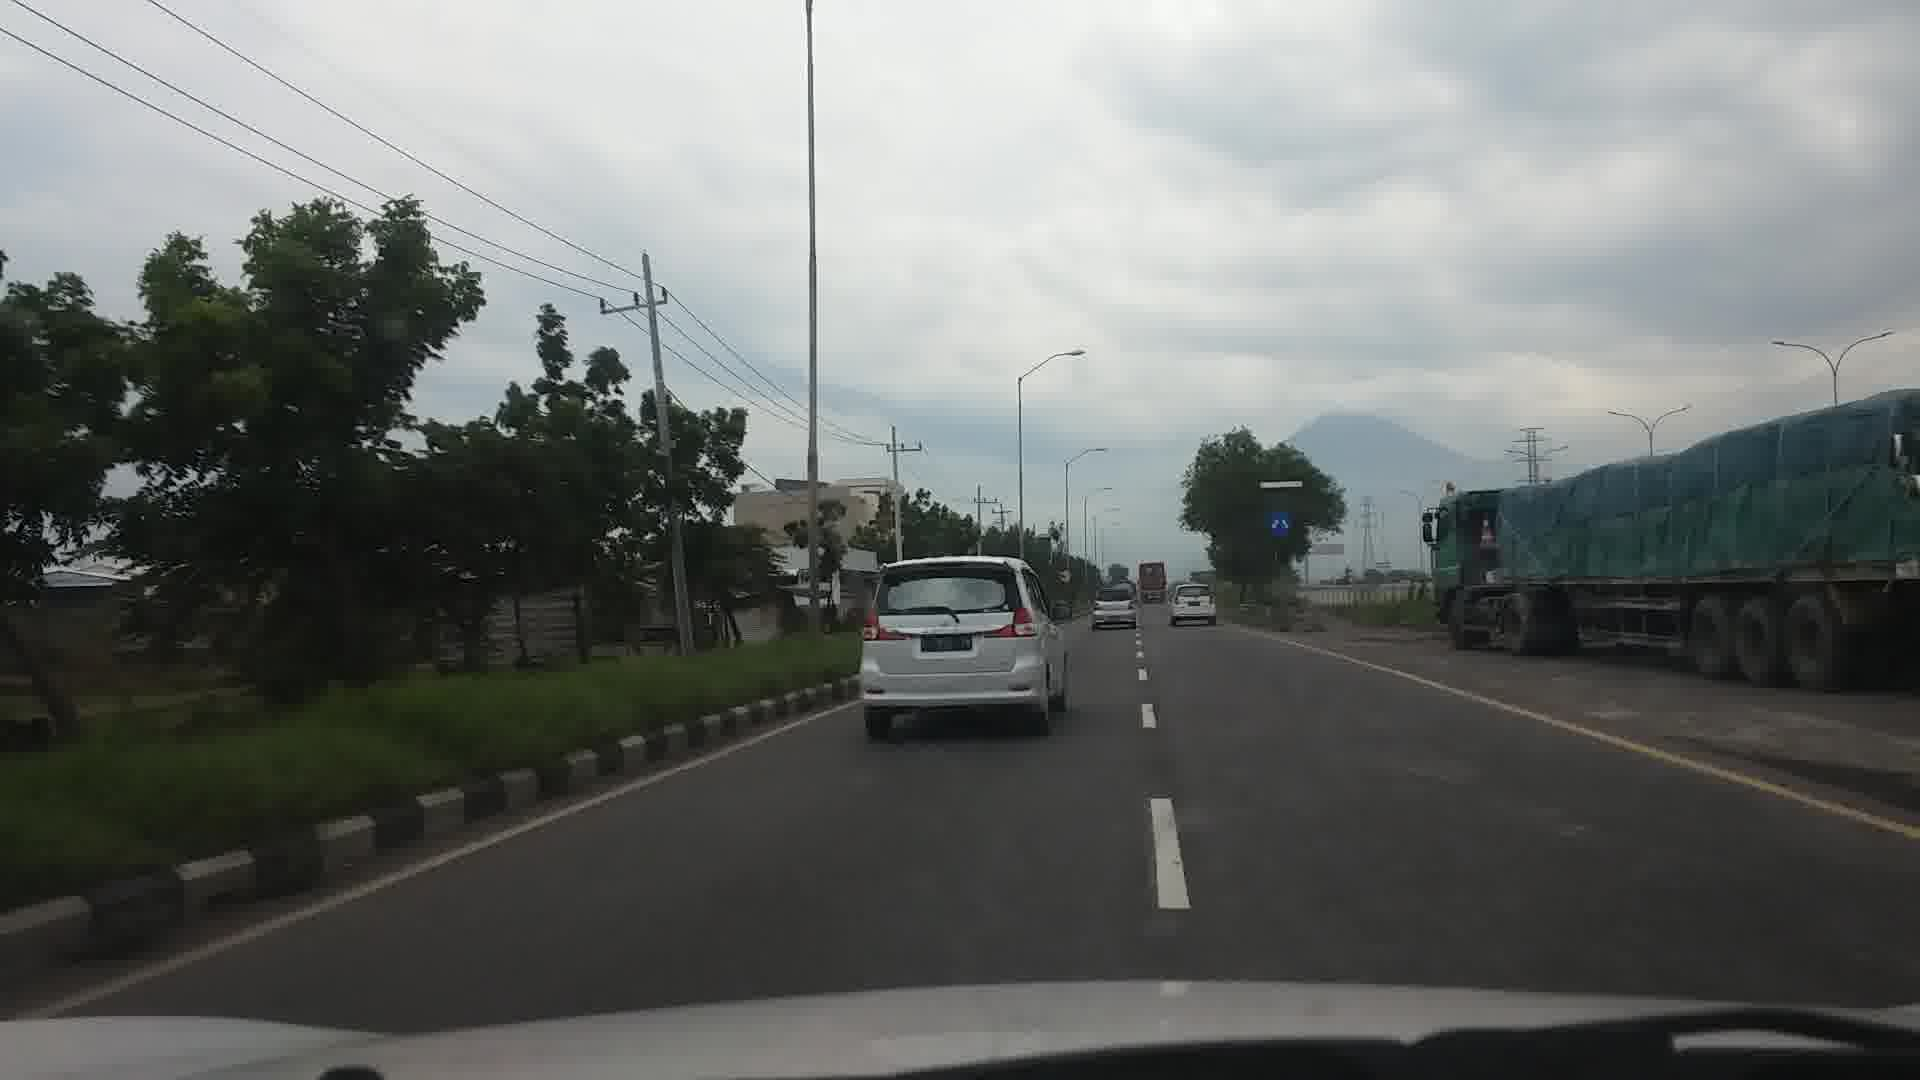plate_positive: (920, 636, 972, 651)
